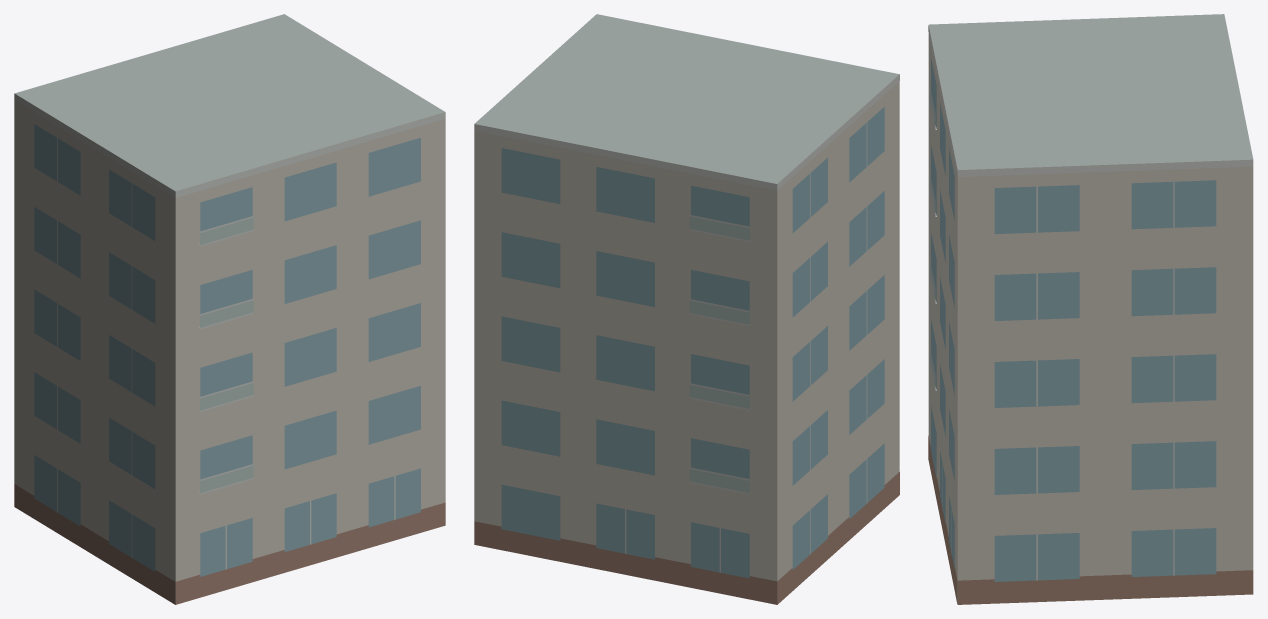
File: survey-upis-32654818.glb
3 views of the same model, side by side, from view 1: azimuth 30°, elevation 25°; view 2: azimuth 150°, elevation 25°; view 3: azimuth 270°, elevation 25° (orthographic). The views are drawn at different scales.
Visible parts, largest first — view 1: survey-upis-32654818.tmp; view 2: survey-upis-32654818.tmp; view 3: survey-upis-32654818.tmp.
Part boxes in pixels (left/top/right/bottom): survey-upis-32654818.tmp: left=14, top=14, right=445, bottom=604; survey-upis-32654818.tmp: left=474, top=14, right=899, bottom=604; survey-upis-32654818.tmp: left=928, top=14, right=1253, bottom=604.
Size of the model in its own units: 11.76 by 15.25 by 10.34.
